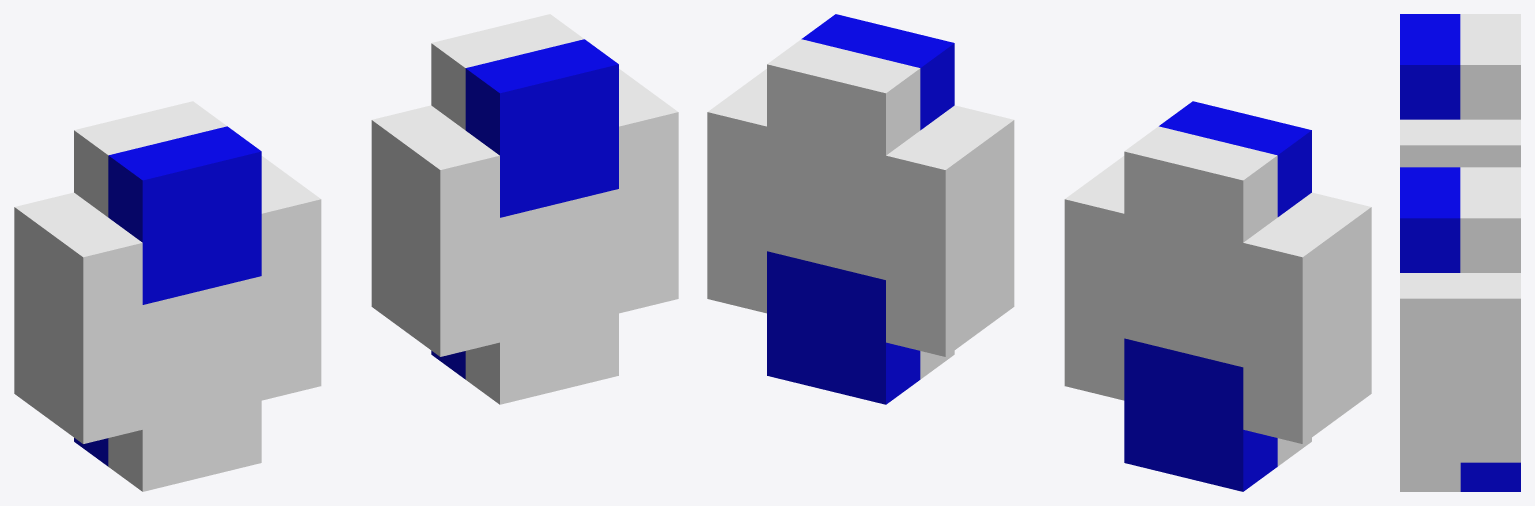
Rendered from eyesud.fbx.
3 views of the same model, side by side, from view 1: azimuth 30°, elevation 25°; view 2: azimuth 150°, elevation 25°; view 3: azimuth 270°, elevation 25° (orthographic). The views are drawn at different scales.
Visible parts, largest first — view 1: eyesud; view 2: eyesud; view 3: eyesud.
Boxes of the visible parts, x1,y1,x2,y2 form: eyesud: [14, 14, 678, 491]; eyesud: [707, 14, 1371, 491]; eyesud: [1400, 14, 1520, 491].
Bounding box in the file's own units: 100 × 50 × 20.
